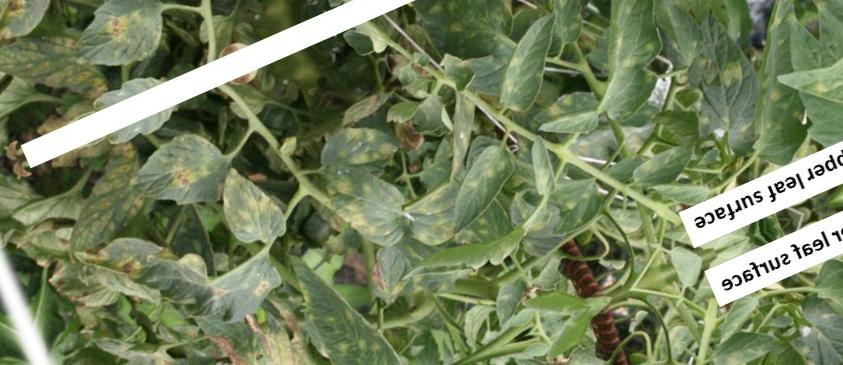Tomato mold leaf: (82, 194, 266, 363), (684, 0, 843, 179), (540, 0, 715, 123), (281, 224, 422, 365), (378, 138, 534, 265), (659, 0, 782, 147), (40, 144, 176, 275), (112, 118, 242, 236), (472, 5, 588, 121), (319, 148, 422, 263), (202, 147, 300, 258), (531, 171, 612, 244), (529, 90, 611, 153), (514, 0, 604, 52), (621, 139, 699, 197), (516, 135, 564, 200)
